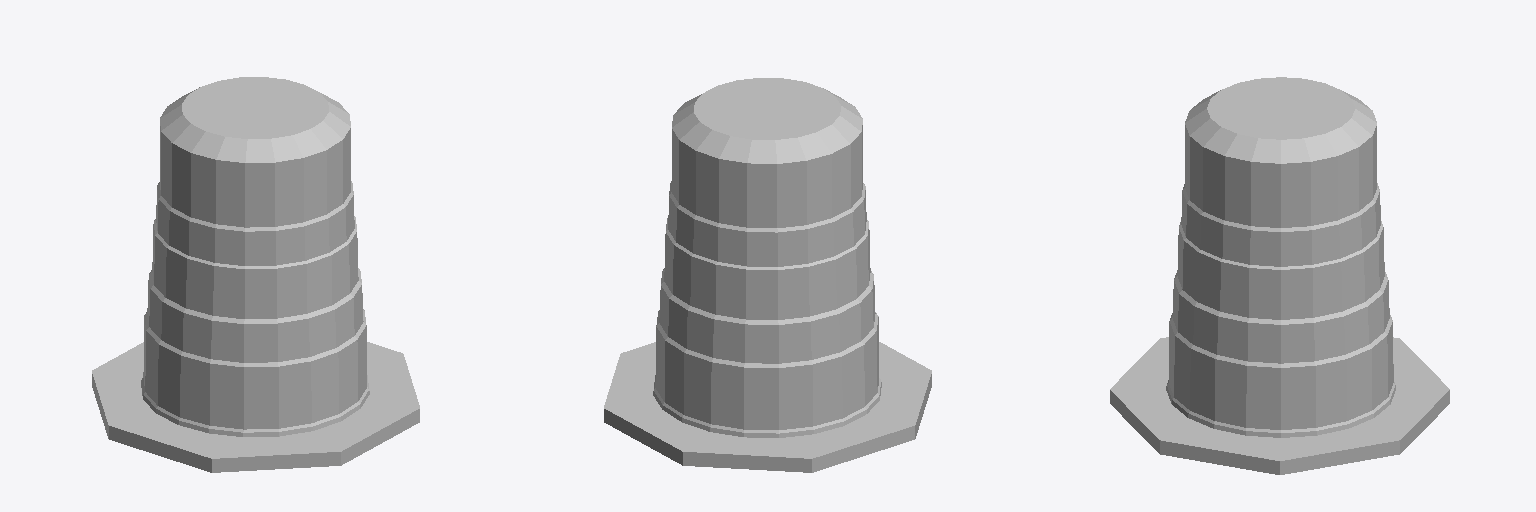
Rendered from CylindricalCone.obj.
3 views of the same model, side by side, from view 1: azimuth 30°, elevation 25°; view 2: azimuth 150°, elevation 25°; view 3: azimuth 270°, elevation 25° (orthographic).
Visible parts, largest first — view 1: Conus_2; view 2: Conus_2; view 3: Conus_2.
Part boxes in pixels (x1,y1,x2,y2): Conus_2: (92,77,419,472); Conus_2: (604,78,931,472); Conus_2: (1110,77,1449,474).
Size of the model in its own units: 1.64 by 1.57 by 1.64.